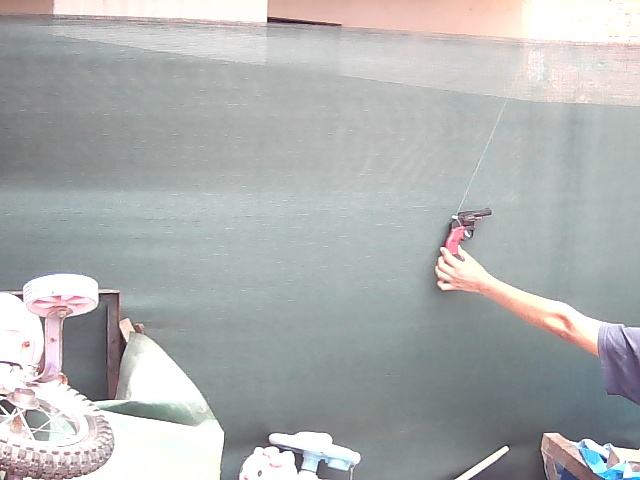pistola: (440, 204, 497, 255)
